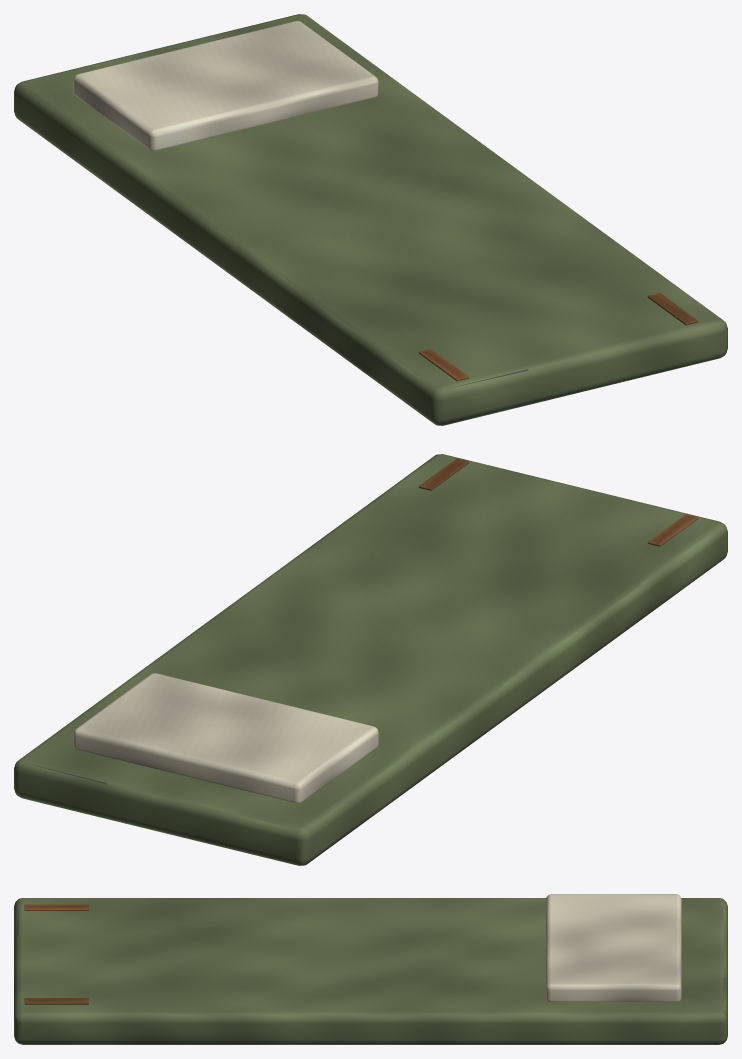
The model's file is Furn_Camp_Bedroll.fbx.
The picture shows the model from 3 angles, top to bottom: view 1: azimuth 30°, elevation 25°; view 2: azimuth 150°, elevation 25°; view 3: azimuth 270°, elevation 25°; orthographic projection. The views are drawn at different scales.
Parts seen in each view (by area): view 1: Furn_Camp_Bedroll; view 2: Furn_Camp_Bedroll; view 3: Furn_Camp_Bedroll.
Part boxes in pixels (x1,y1,x2,y2): Furn_Camp_Bedroll: [14, 14, 727, 425]; Furn_Camp_Bedroll: [14, 454, 727, 865]; Furn_Camp_Bedroll: [14, 894, 727, 1044].
Bounding box in the file's own units: 0.8 × 0.15 × 2.
3 materials, 3 textured.
